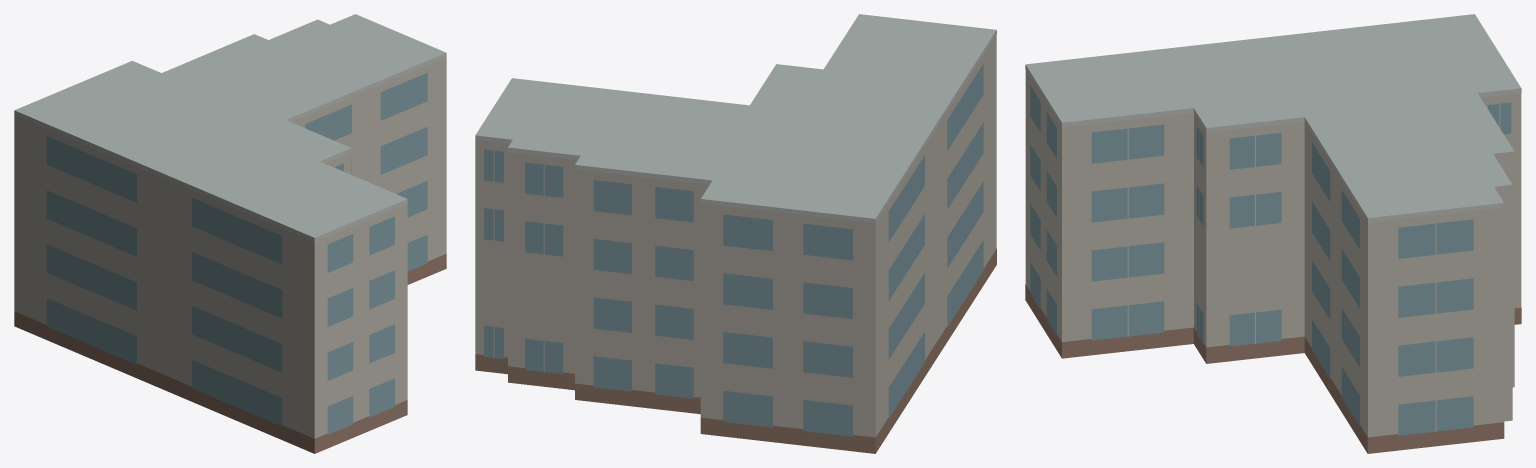
File: residential-7b4d67d6-3b59-4b9e-9fe5-b40ebfe6589d.glb
3 renders of one model, left to right at view 1: azimuth 30°, elevation 25°; view 2: azimuth 150°, elevation 25°; view 3: azimuth 270°, elevation 25°, orthographic. The views are drawn at different scales.
Visible parts, largest first — view 1: residential-7b4d67d6-3b59-4b9e-9fe5-b40ebfe6589d.tmp; view 2: residential-7b4d67d6-3b59-4b9e-9fe5-b40ebfe6589d.tmp; view 3: residential-7b4d67d6-3b59-4b9e-9fe5-b40ebfe6589d.tmp.
Part boxes in pixels (left/top/right/bottom): residential-7b4d67d6-3b59-4b9e-9fe5-b40ebfe6589d.tmp: left=14, top=14, right=446, bottom=453; residential-7b4d67d6-3b59-4b9e-9fe5-b40ebfe6589d.tmp: left=475, top=14, right=996, bottom=453; residential-7b4d67d6-3b59-4b9e-9fe5-b40ebfe6589d.tmp: left=1025, top=14, right=1521, bottom=453.
Size of the model in its own units: 22.66 by 12.2 by 23.27.
